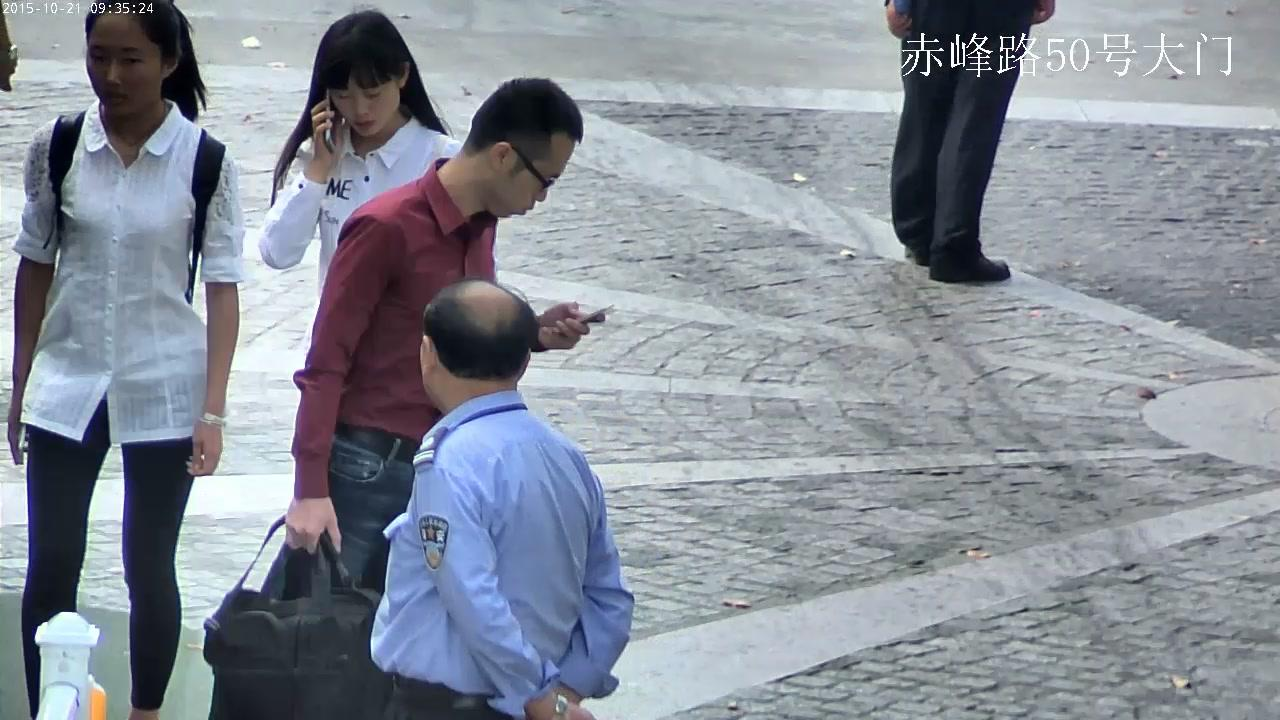person: (199, 79, 618, 720), (5, 0, 244, 719), (367, 280, 635, 720), (256, 11, 465, 269), (878, 0, 1058, 282)
